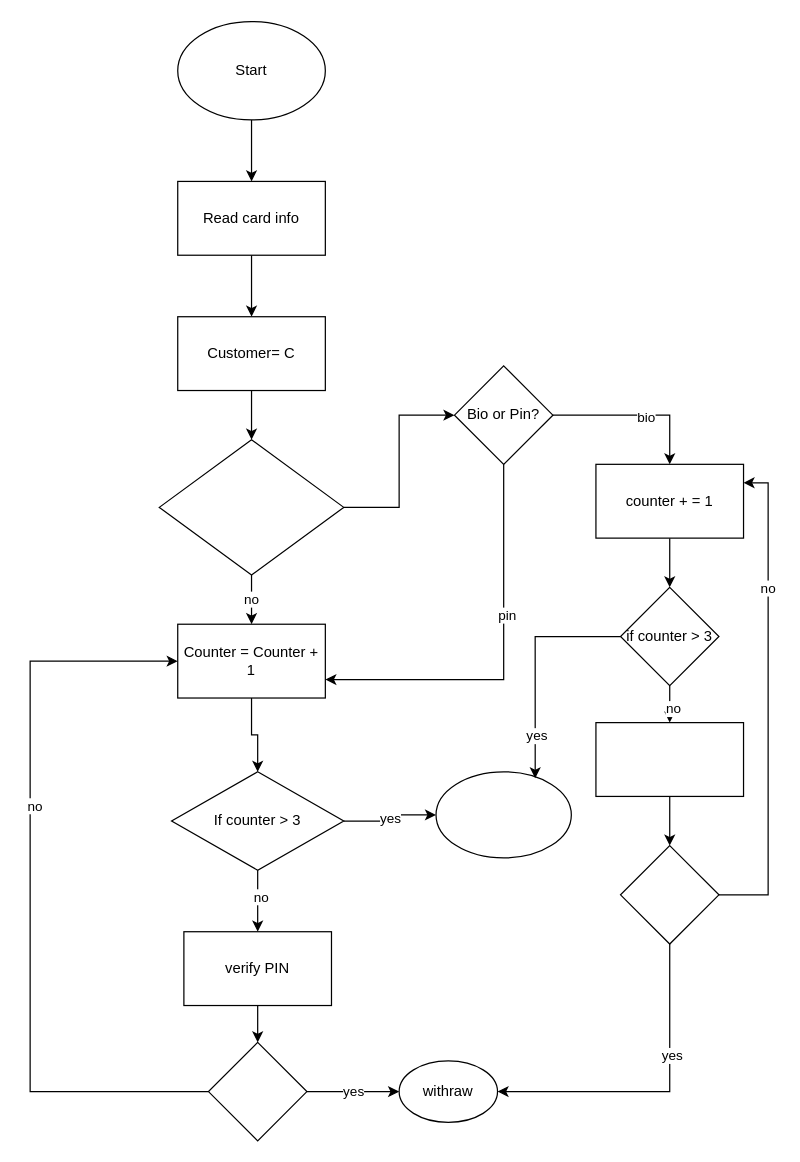
Some shapes in this 800 by 1162 pixel diagram are drawn without their labels. Here are the shapes that lost their labels. From the top down, the centre of each, then its label:
point 251,506: Is card from one bank?
point 669,758: verify identity
point 503,814: capture card
point 669,894: if ID OK?
point 257,1091: PIN ok ?
